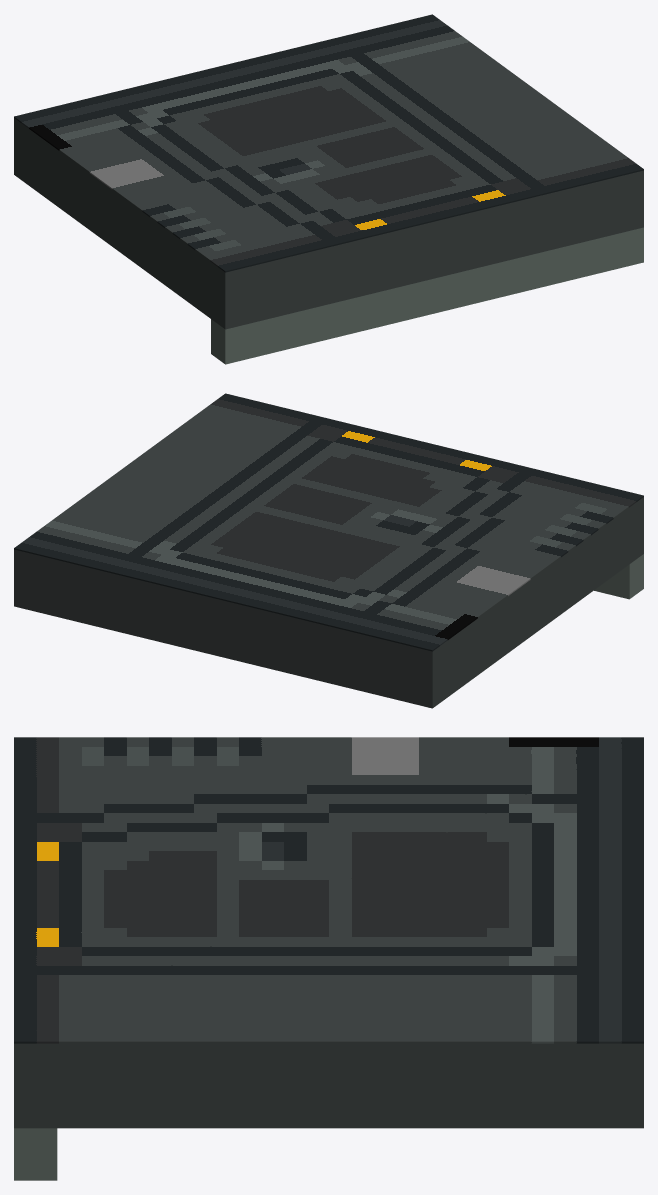
The model's file is CMU3DInteriorVehicleAPCApcRight3.glb.
3 views of the same model, one above another, from view 1: azimuth 30°, elevation 25°; view 2: azimuth 150°, elevation 25°; view 3: azimuth 270°, elevation 25° (orthographic). The views are drawn at different scales.
Parts seen in each view (by area): view 1: overhead armor source finish, overhead armor, inner roof rib; view 2: overhead armor source finish, overhead armor, inner roof rib; view 3: overhead armor source finish, overhead armor, inner roof rib.
Part boxes in pixels (box(x1,y1,x2,y2)): overhead armor source finish: box(14, 14, 643, 272); overhead armor: box(14, 118, 643, 329); inner roof rib: box(211, 227, 643, 364); overhead armor source finish: box(14, 393, 643, 651); overhead armor: box(14, 497, 643, 708); inner roof rib: box(594, 554, 643, 599); overhead armor source finish: box(14, 737, 643, 1043); overhead armor: box(14, 1043, 643, 1128); inner roof rib: box(14, 1128, 57, 1180).
Bounding box in the file's own units: 1 × 0.213 × 0.875.
3 materials, 1 textured.
